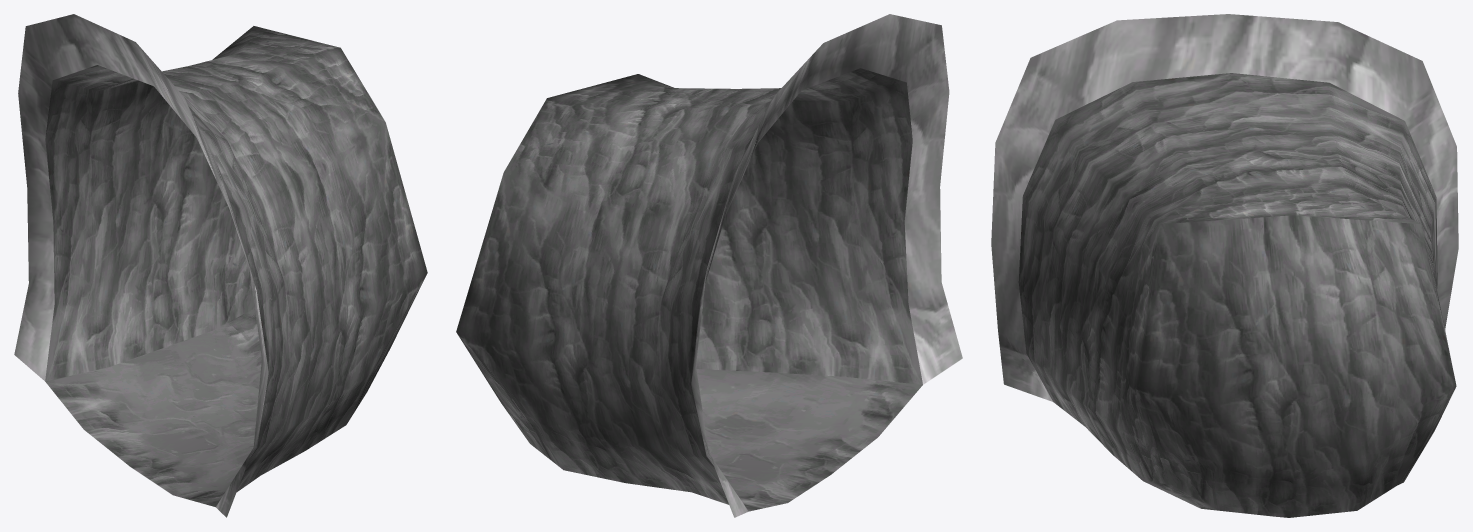
The model's file is SWORDLIGHT20_PS-AREA03_21.fbx.
3 views of the same model, side by side, from view 1: azimuth 30°, elevation 25°; view 2: azimuth 150°, elevation 25°; view 3: azimuth 270°, elevation 25° (orthographic). The views are drawn at different scales.
Parts seen in each view (by area): view 1: SWORDLIGHT20_PS-AREA03_21; view 2: SWORDLIGHT20_PS-AREA03_21; view 3: SWORDLIGHT20_PS-AREA03_21.
Boxes of the visible parts, left/top/right/bottom form: SWORDLIGHT20_PS-AREA03_21: left=14, top=14, right=427, bottom=517; SWORDLIGHT20_PS-AREA03_21: left=456, top=14, right=962, bottom=517; SWORDLIGHT20_PS-AREA03_21: left=991, top=14, right=1458, bottom=517.
Bounding box in the file's own units: 50828 × 71055 × 71813.
3 materials, 3 textured.
